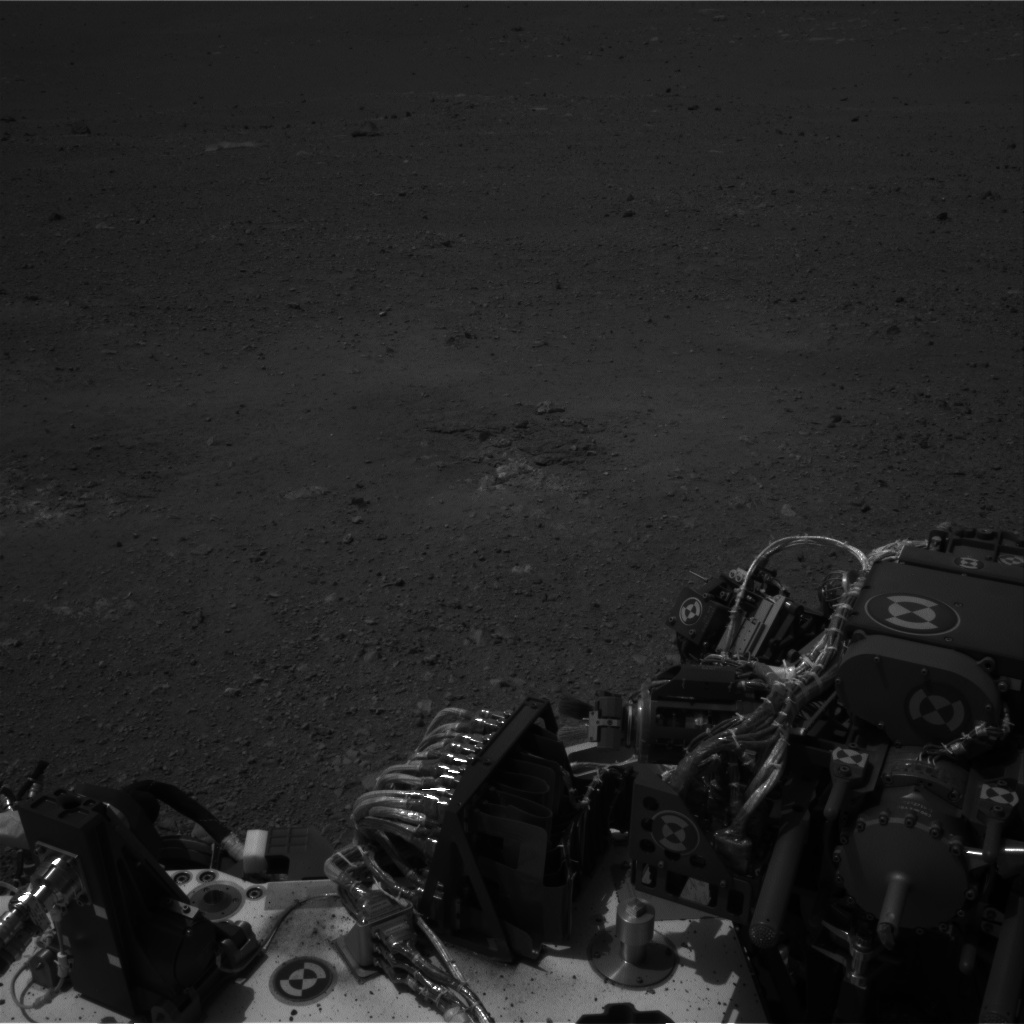soil: (4, 110, 1019, 752)
